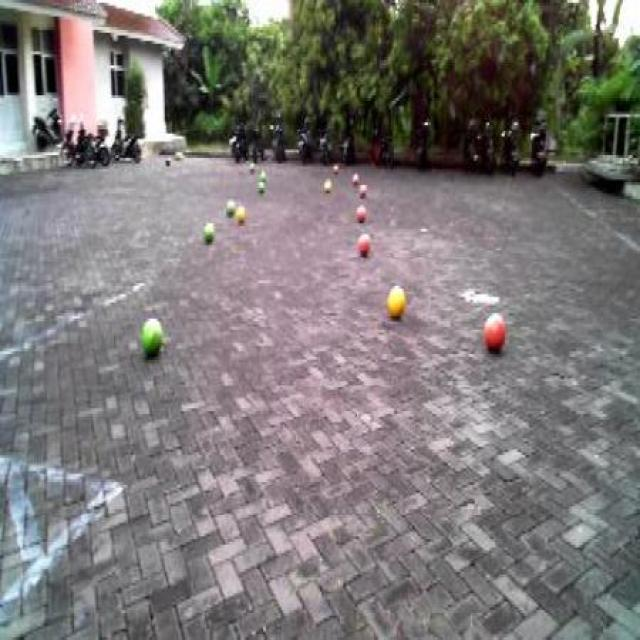buoy: (136, 314, 166, 364), (481, 306, 506, 356), (386, 280, 406, 322), (356, 232, 371, 262), (200, 219, 215, 246), (223, 194, 239, 217), (234, 202, 247, 226), (354, 202, 366, 226)
